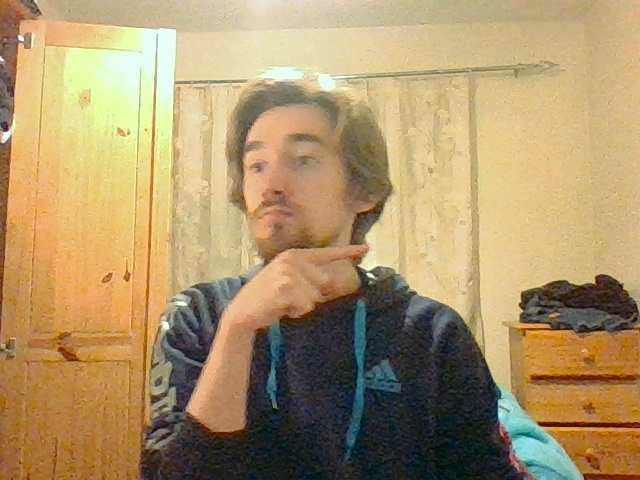son: (260, 244, 372, 319)
